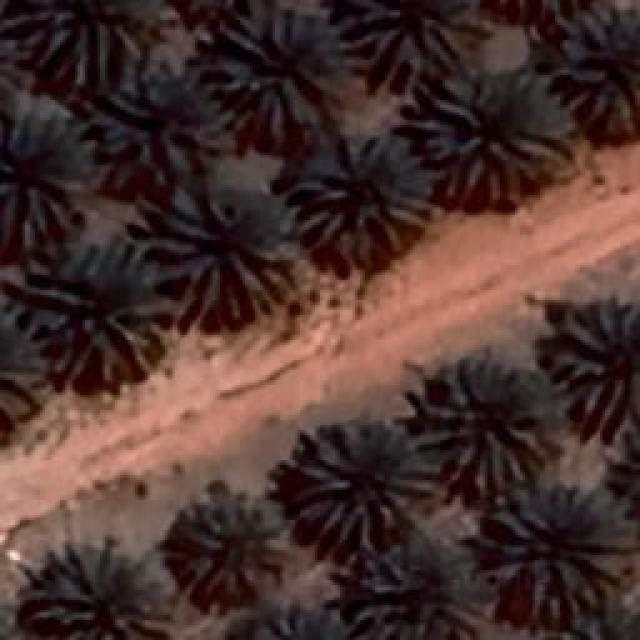PalmTree: (410, 60, 572, 200), (145, 175, 293, 328), (22, 240, 168, 390), (288, 128, 430, 262), (490, 480, 630, 615), (288, 420, 438, 545), (210, 7, 355, 135), (98, 58, 228, 172), (430, 364, 545, 492), (352, 534, 492, 638), (168, 490, 292, 598), (30, 540, 170, 635), (542, 298, 638, 430), (0, 108, 88, 242), (8, 0, 150, 80), (547, 5, 635, 130), (348, 0, 490, 70), (0, 319, 54, 442), (228, 603, 354, 640)
